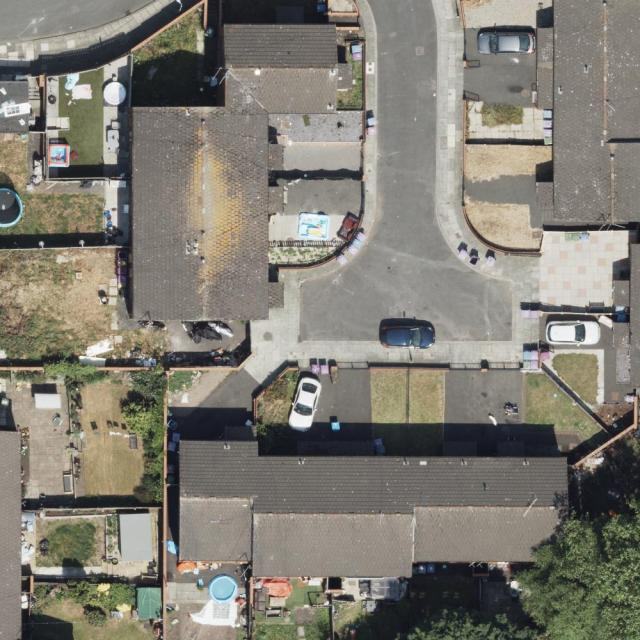roof: (132, 20, 341, 319), (178, 436, 570, 576), (536, 0, 640, 224), (0, 431, 23, 640), (610, 242, 640, 386)
